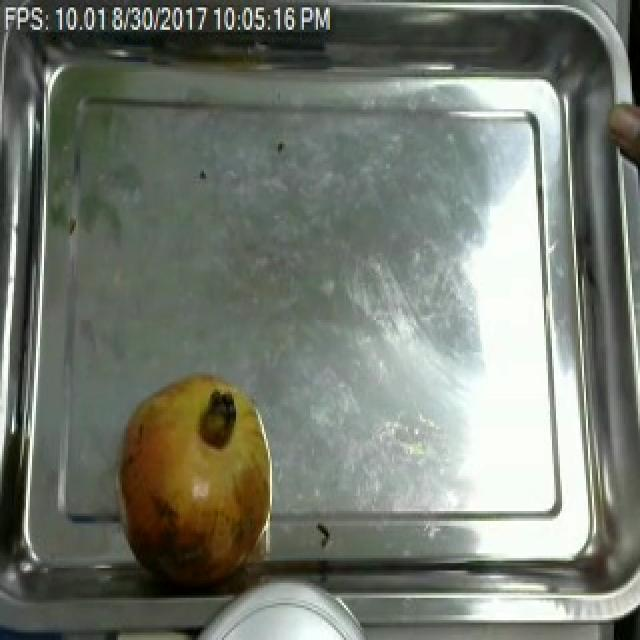fruit: (98, 357, 284, 598), (604, 92, 640, 184)
